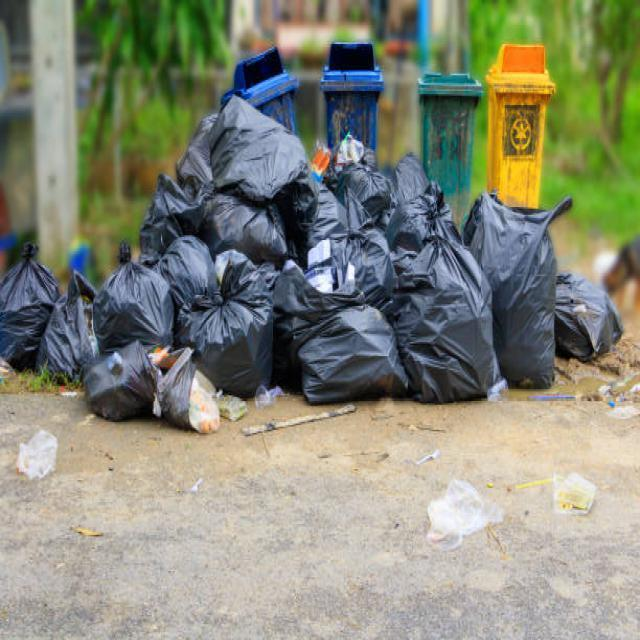Trashbag: (280, 276, 407, 404), (489, 204, 571, 392), (398, 252, 498, 399), (182, 101, 316, 203), (202, 262, 272, 386), (90, 269, 181, 348), (206, 195, 291, 268), (138, 178, 219, 251), (562, 270, 626, 358), (88, 340, 156, 420), (283, 177, 350, 258), (2, 268, 52, 356), (391, 194, 456, 256), (48, 301, 96, 371)
